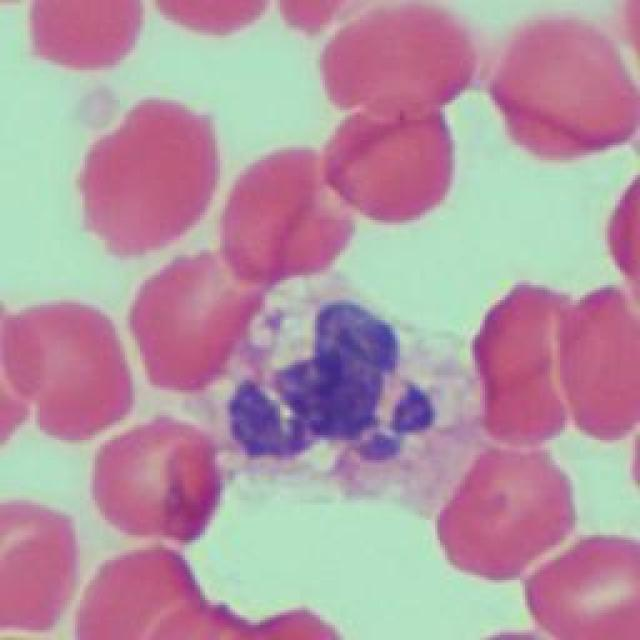RBC: (75, 96, 220, 262), (487, 17, 640, 162), (128, 245, 260, 393), (437, 446, 575, 586), (475, 282, 580, 452), (224, 145, 356, 280), (316, 8, 472, 122), (320, 100, 460, 225), (8, 299, 130, 441), (94, 420, 216, 542), (555, 286, 640, 439), (522, 532, 640, 638), (78, 547, 206, 640), (0, 495, 78, 630), (28, 0, 141, 72), (151, 0, 266, 42), (605, 179, 640, 279), (252, 607, 332, 640)
WBC: (204, 271, 481, 514)
